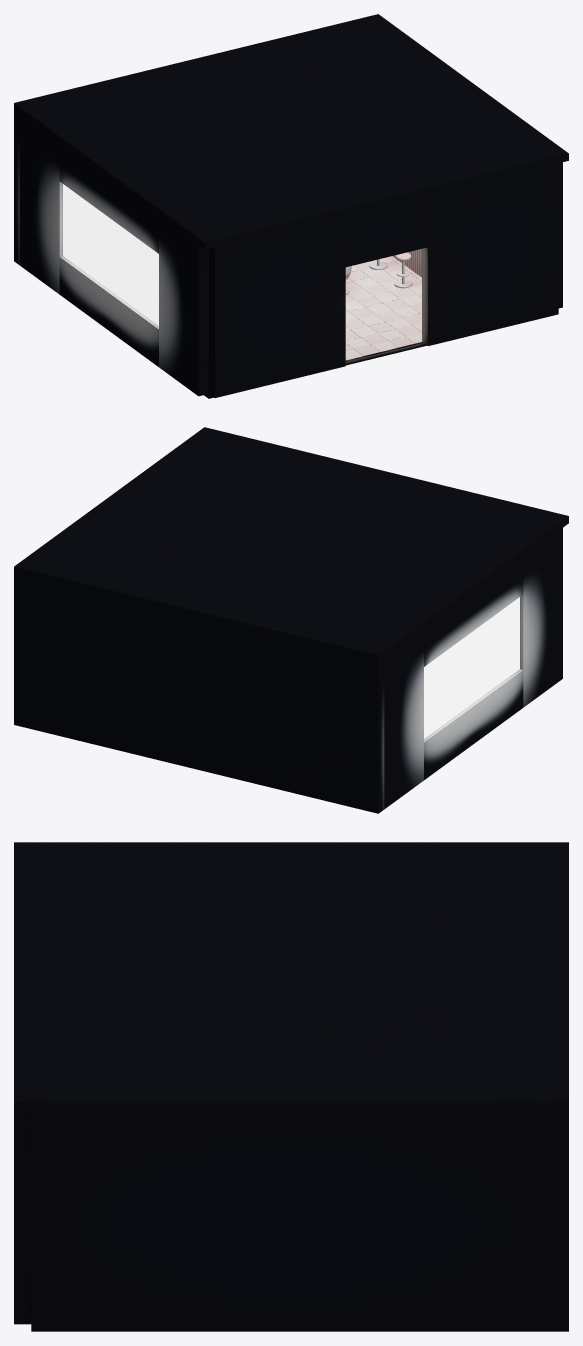
Rendered from room_kitty.glb.
3 renders of one model, top to bottom at view 1: azimuth 30°, elevation 25°; view 2: azimuth 150°, elevation 25°; view 3: azimuth 270°, elevation 25°, orthographic. The views are drawn at different scales.
Parts seen in each view (by area): view 1: baked_ceiling, baked_walls, window_glass, baked_floor, baked_furn; view 2: baked_walls, baked_ceiling, window_glass; view 3: baked_ceiling, baked_walls.
Boxes of the visible parts, x1,y1,x2,y2 form: baked_ceiling: [14, 14, 568, 249]; baked_walls: [14, 110, 562, 397]; window_glass: [63, 184, 158, 325]; baked_floor: [204, 256, 426, 398]; baked_furn: [345, 249, 421, 294]; baked_walls: [14, 528, 562, 813]; baked_ceiling: [14, 427, 568, 662]; window_glass: [424, 597, 519, 738]; baked_ceiling: [14, 842, 568, 1111]; baked_walls: [14, 1111, 568, 1331].
Bounding box in the file's own units: 10.6 × 4.54 × 9.6.
Materials: 8 (4 with a texture image).
